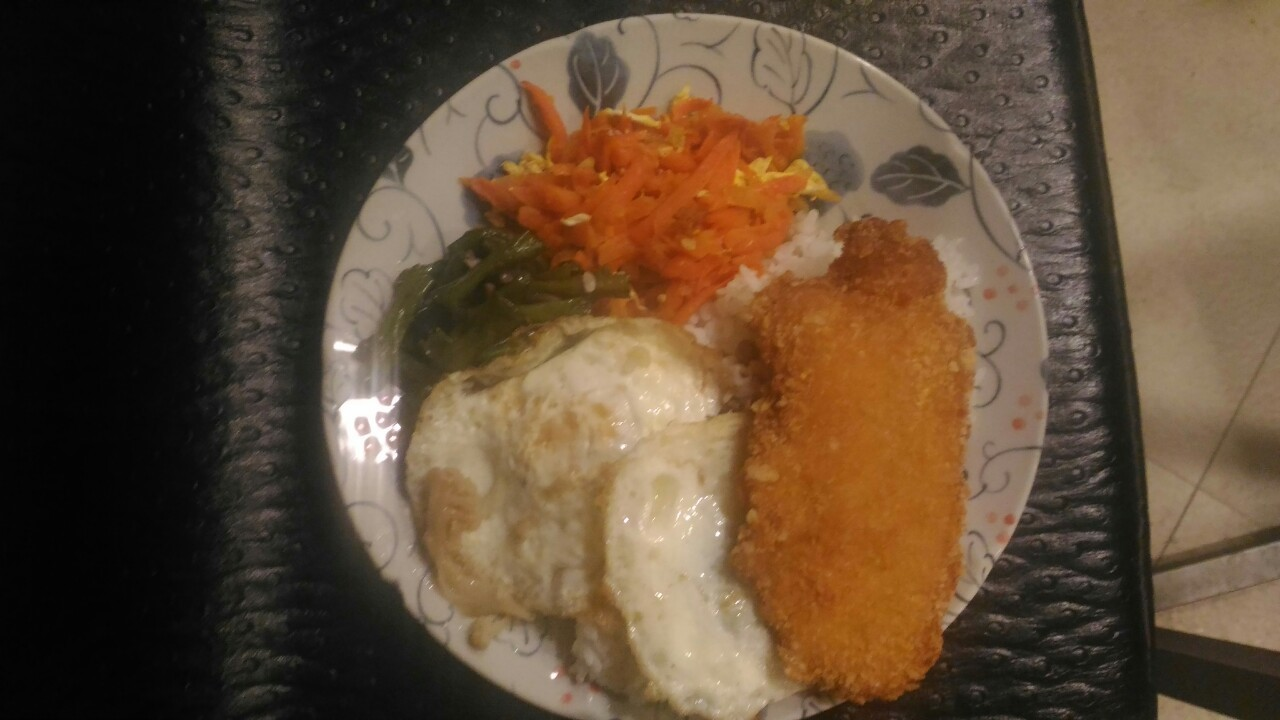carrot_eggs: (482, 97, 810, 299)
fried_chicken: (735, 215, 978, 706)
fried_eggs: (400, 315, 760, 714)
